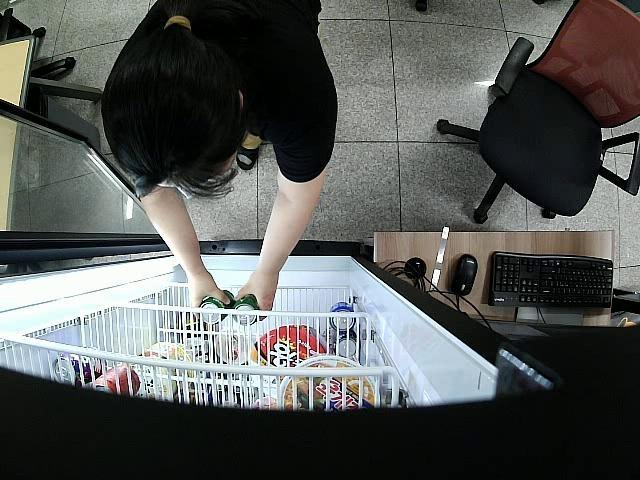12_chilsungCider: (198, 290, 233, 324), (232, 296, 258, 326)
